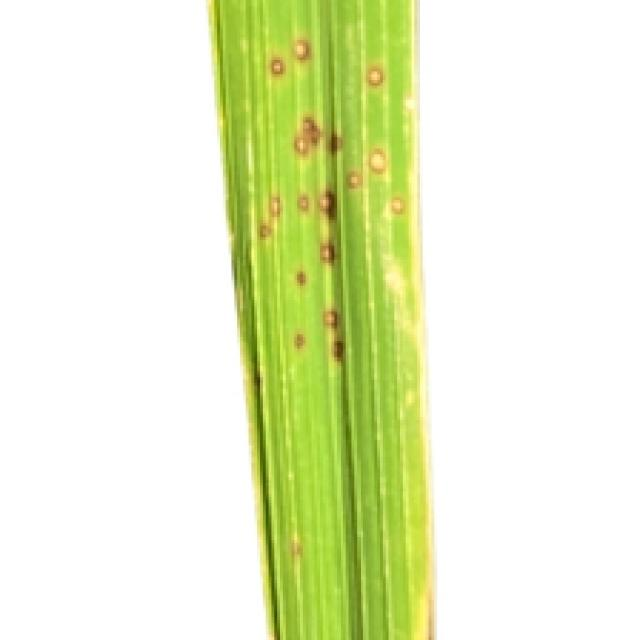Rice___Brown_Spot: (207, 0, 436, 637)
